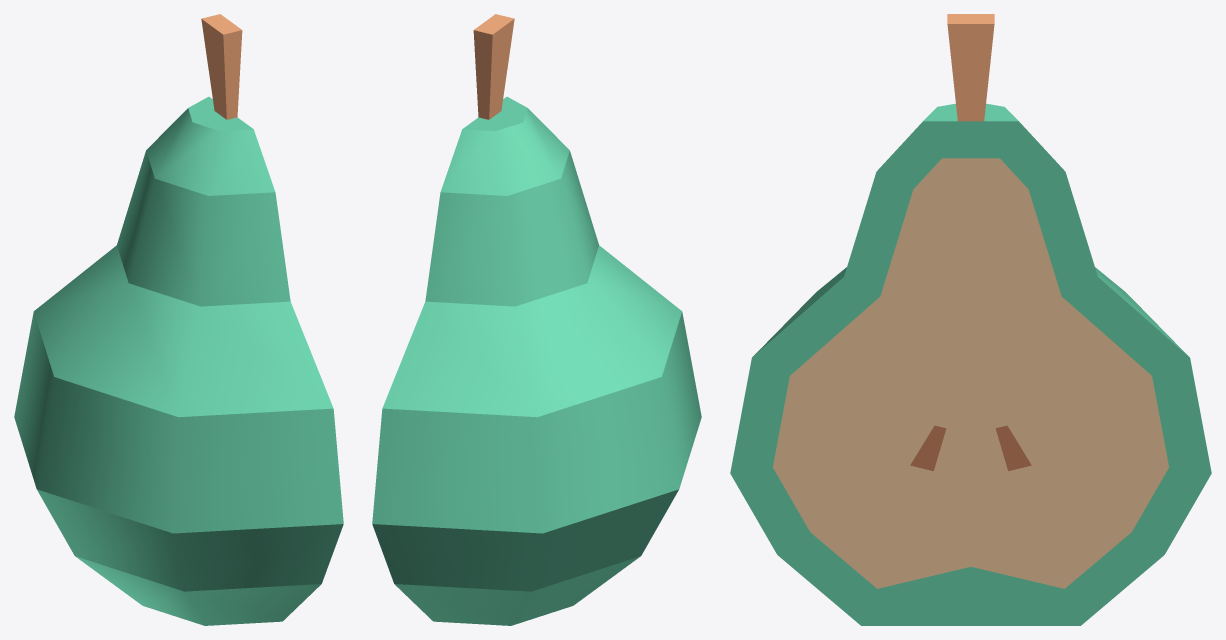
File: Pear_Half.glb
3 views of the same model, side by side, from view 1: azimuth 30°, elevation 25°; view 2: azimuth 150°, elevation 25°; view 3: azimuth 270°, elevation 25° (orthographic). The views are drawn at different scales.
Visible parts, largest first — view 1: pearHalf; view 2: pearHalf; view 3: pearHalf.
Part boxes in pixels (box(x1,y1,x2,y2)): pearHalf: box(14, 14, 343, 625); pearHalf: box(372, 14, 701, 625); pearHalf: box(730, 14, 1211, 625).
Size of the model in its own units: 0.0981 by 0.2708 by 0.1963.
